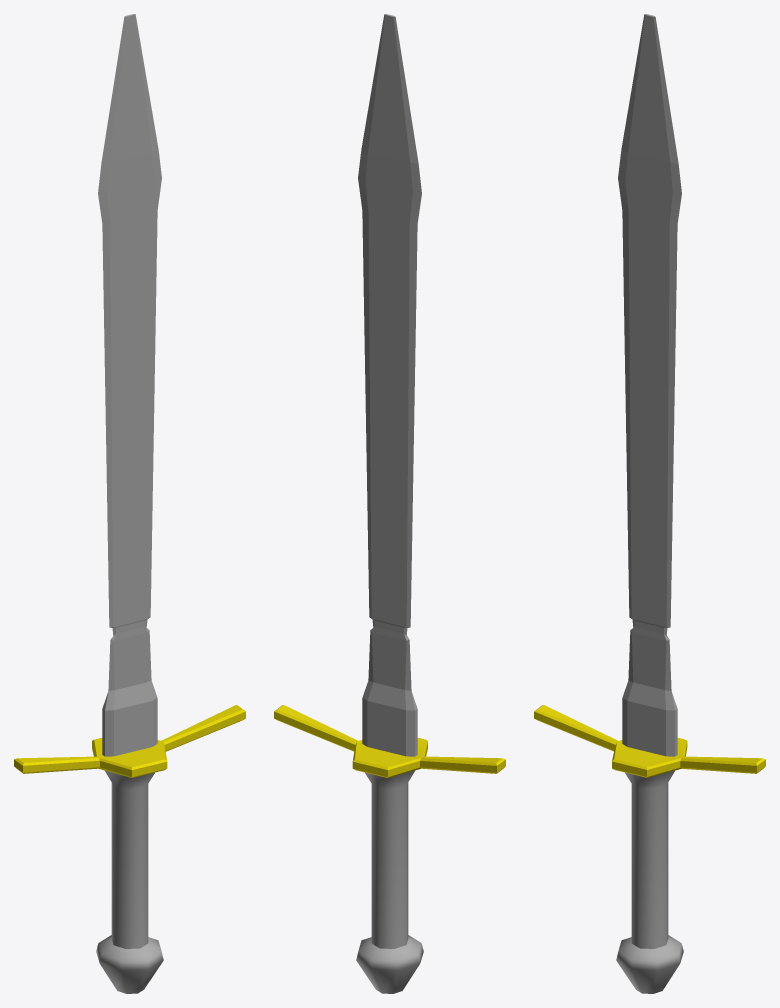
Rendered from Sword_Medium.fbx.
The picture shows the model from 3 angles, left to right: view 1: azimuth 30°, elevation 25°; view 2: azimuth 150°, elevation 25°; view 3: azimuth 330°, elevation 25°; orthographic projection.
Parts seen in each view (by area): view 1: pCube33; view 2: pCube33; view 3: pCube33.
Part boxes in pixels (x1,y1,x2,y2): pCube33: (14, 14, 245, 993); pCube33: (274, 14, 505, 993); pCube33: (534, 14, 765, 993).
Size of the model in its own units: 34.09 by 142 by 10.62.
